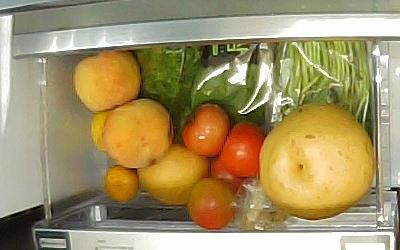peach: (103, 99, 174, 169), (73, 51, 141, 113)
pear: (259, 103, 375, 221), (137, 142, 210, 205)
tangerine: (103, 165, 138, 203), (91, 111, 114, 153)
tomato: (187, 178, 238, 231), (182, 102, 230, 158), (222, 120, 263, 177), (209, 154, 245, 194)
